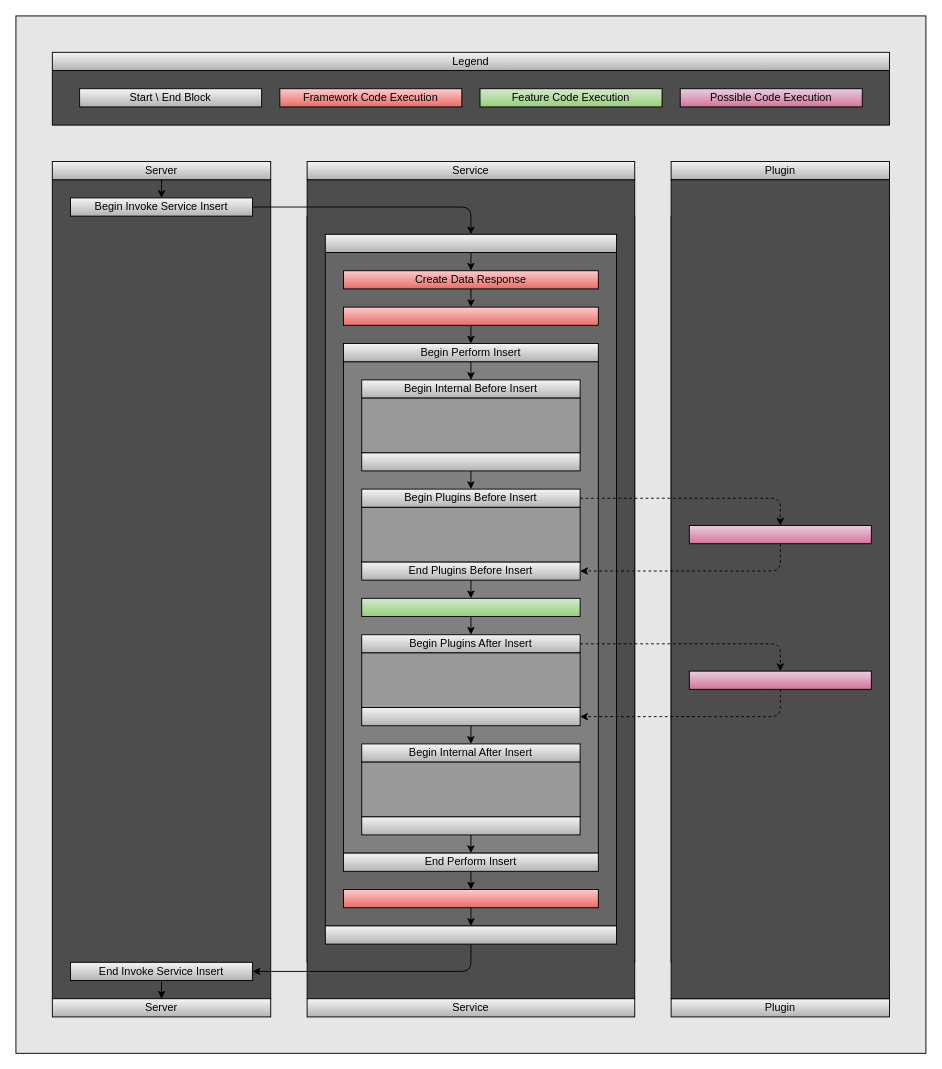
This 942x1069 diagram has some shape labels left out. The centre of each missing label's shape, as x and y in pixels:
"Begin Insert" belongs at (470,243).
"Close Database Connection" belongs at (470,898).
"End Insert" belongs at (470,934).
"End Internal After Insert" belongs at (470,825).
"End Internal Before Insert" belongs at (470,461).
"End Plugins After Insert" belongs at (470,716).
"On Insert" belongs at (470,607).
"Open Database Connection" belongs at (470,315).
"Plugins After Insert" belongs at (779,679).
"Plugins Before Insert" belongs at (779,534).
